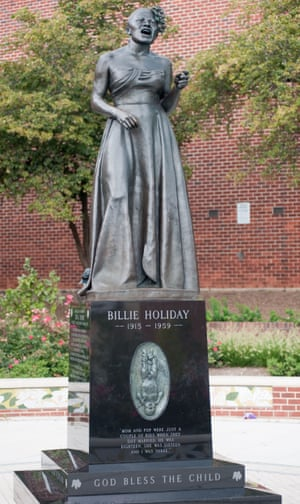person-like: (72, 6, 201, 296)
